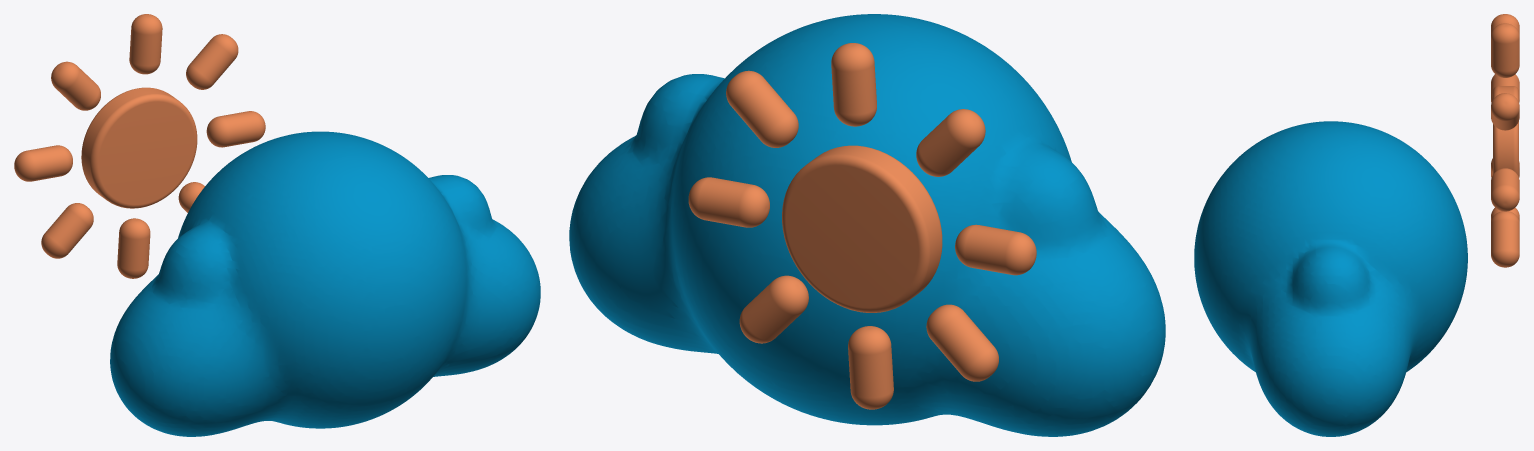
The model's file is weather-3d-animated-icon-1083580627729.glb.
3 views of the same model, side by side, from view 1: azimuth 30°, elevation 25°; view 2: azimuth 150°, elevation 25°; view 3: azimuth 270°, elevation 25° (orthographic). The views are drawn at different scales.
Parts seen in each view (by area): view 1: Mball.005, Cylinder.036; view 2: Mball.005, Cylinder.036; view 3: Mball.005, Cylinder.036.
Part boxes in pixels (x1,y1,x2,y2): Mball.005: (110,131,540,436); Cylinder.036: (14,14,265,278); Mball.005: (569,14,1165,436); Cylinder.036: (688,43,1036,409); Mball.005: (1194,121,1467,436); Cylinder.036: (1491,14,1519,267).
Size of the model in its own units: 1.52 by 1.21 by 1.11.
